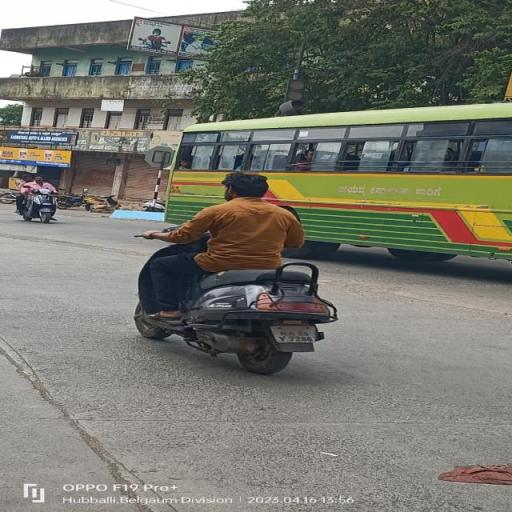bike: (126, 170, 344, 376)
numberplate: (268, 322, 320, 344)
withouthelmet: (220, 174, 268, 198)
